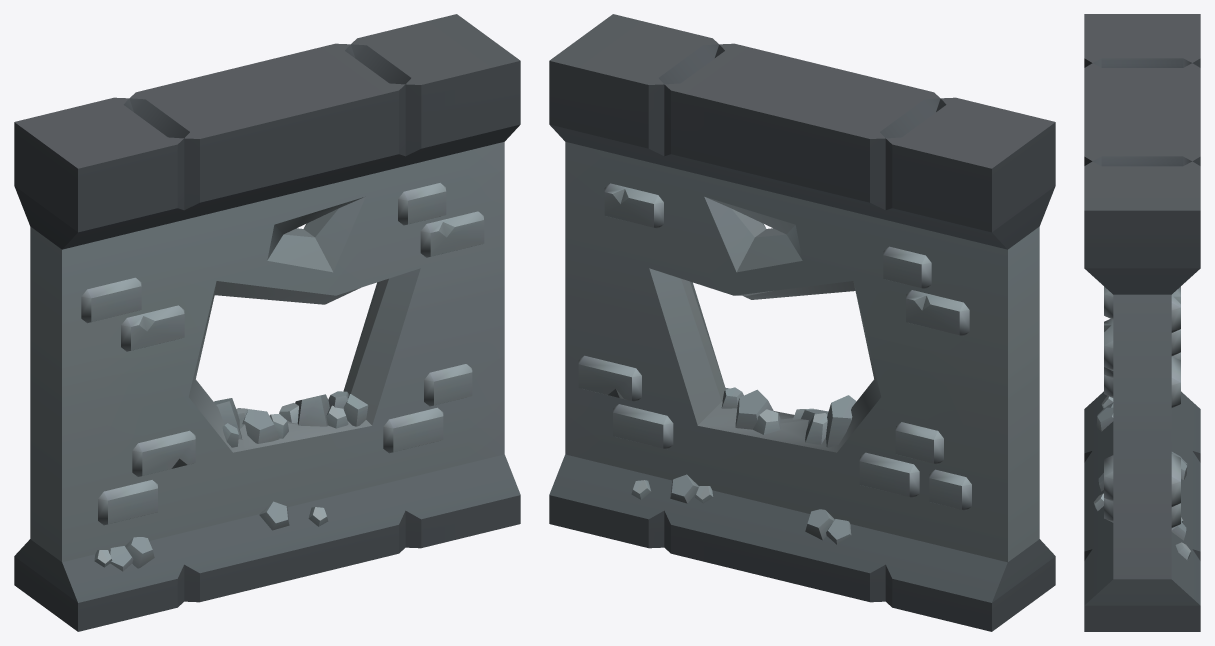
File: d_wall_broken.glb
3 views of the same model, side by side, from view 1: azimuth 30°, elevation 25°; view 2: azimuth 150°, elevation 25°; view 3: azimuth 270°, elevation 25° (orthographic). The views are drawn at different scales.
Visible parts, largest first — view 1: wall_broken; view 2: wall_broken; view 3: wall_broken.
Part boxes in pixels (x1,y1,x2,y2): wall_broken: (14,14,520,631); wall_broken: (549,14,1055,631); wall_broken: (1084,14,1200,631).
Size of the model in its own units: 4 by 4 by 1.
1 material, 1 textured.
